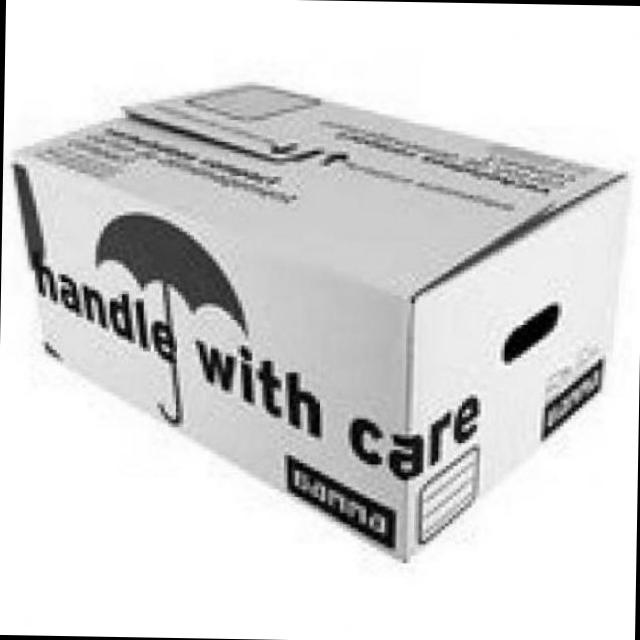box: (0, 69, 632, 570)
